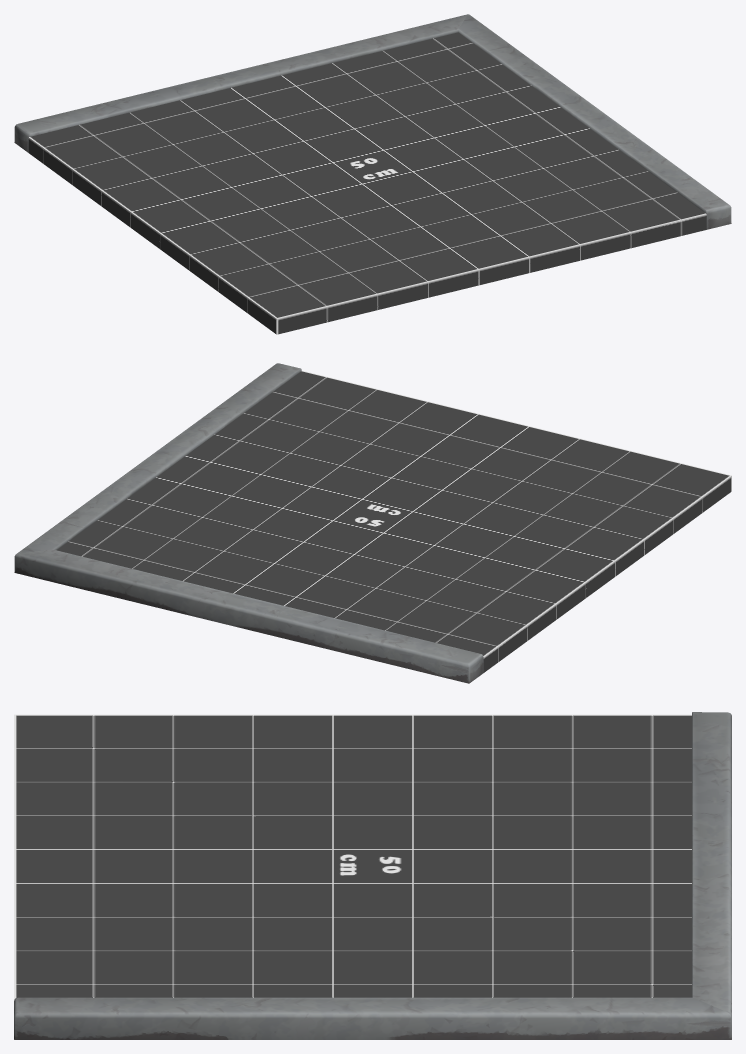
Rendered from M02SideWalk01_11.FBX.
3 renders of one model, top to bottom at view 1: azimuth 30°, elevation 25°; view 2: azimuth 150°, elevation 25°; view 3: azimuth 270°, elevation 25°, orthographic. The views are drawn at different scales.
Visible parts, largest first — view 1: M02SideWalk01_11; view 2: M02SideWalk01_11; view 3: M02SideWalk01_11.
Boxes of the visible parts, box(x1,y1,x2,y2) form: M02SideWalk01_11: box(14, 14, 731, 334); M02SideWalk01_11: box(14, 363, 731, 683); M02SideWalk01_11: box(14, 712, 731, 1039).
Size of what is drawn, in the model's own units: 4.5 by 0.1783 by 4.5.
